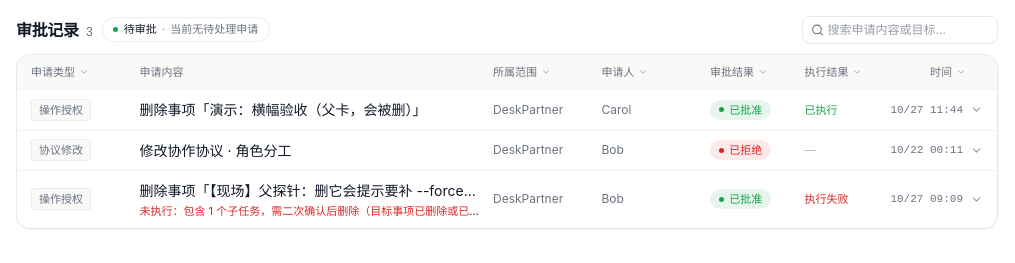
Scenario: ApprovalView 视觉与交互收口（6 项用户反馈验证） › 3. 审批记录表格具备 7 列纯文字表头（申请类型独立成列），且使用自定义浮层菜单替代原生 <select>
Check: the row named "审批记录表头" is shown, box [17,55,997,89]
Check: the row named "审批记录表头" shows "申请类型", box [26,62,94,82]
Click the button with aria-label "按审批结果筛选": {"x": 739, "y": 72} [705,62,773,82]
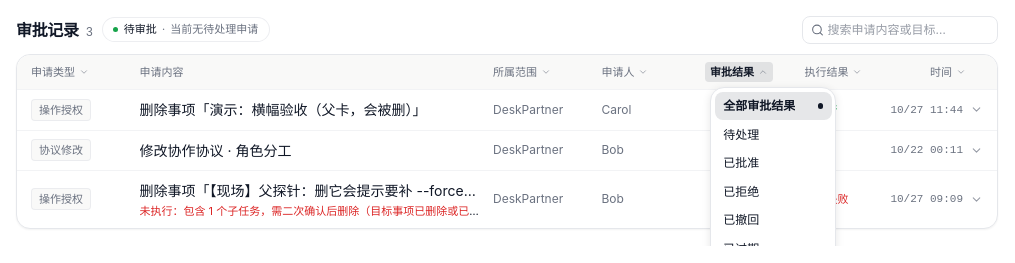
Check: the list named "审批结果筛选项" is shown, box [710,87,836,246]
Check: the option "已拒绝" is shown
Click the option "已拒绝": {"x": 773, "y": 192} [714,177,832,206]
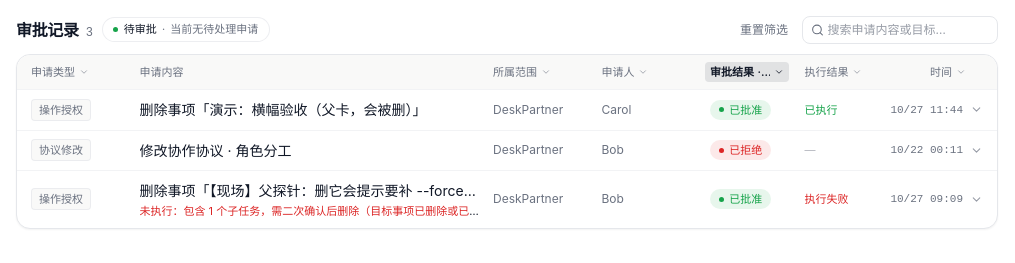
Check: the row named "审批记录表头" shows "· 已拒绝", box [17,55,997,89]
